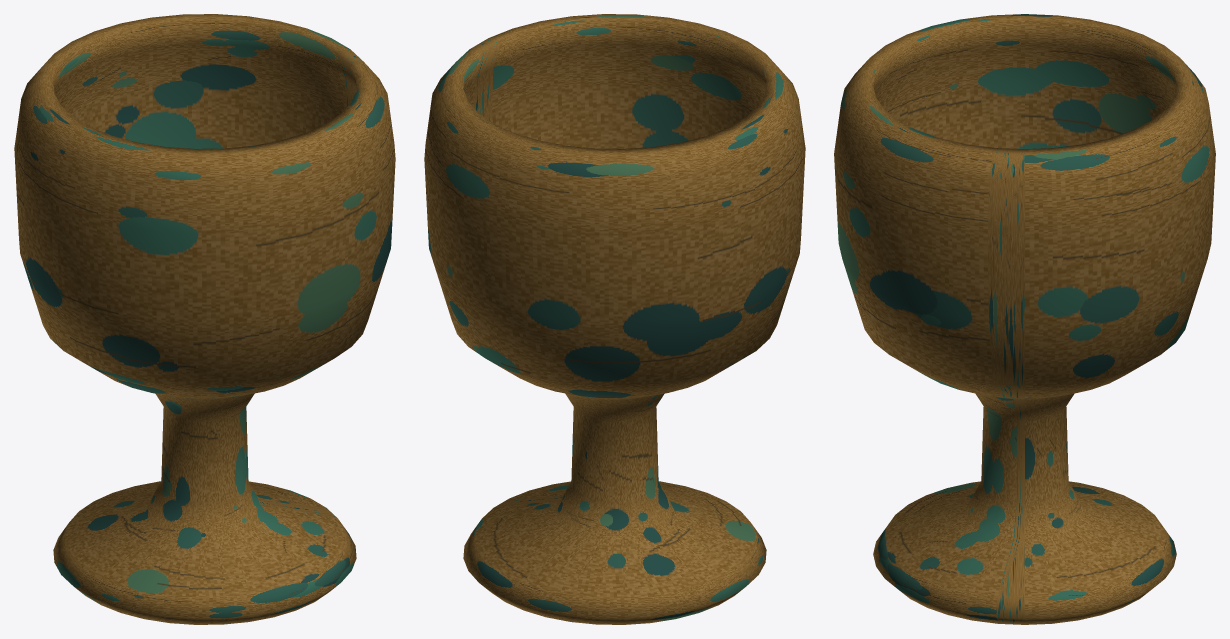
File: 7334625_Goblet_LOW.fbx
The picture shows the model from 3 angles, left to right: view 1: azimuth 30°, elevation 25°; view 2: azimuth 150°, elevation 25°; view 3: azimuth 270°, elevation 25°; orthographic projection.
Visible parts, largest first — view 1: Goblet_LOW; view 2: Goblet_LOW; view 3: Goblet_LOW.
Part boxes in pixels (x1,y1,x2,y2): Goblet_LOW: (14,14,395,624); Goblet_LOW: (424,14,805,624); Goblet_LOW: (834,14,1215,624).
Size of the model in its own units: 16.6 by 23.1 by 16.6.
